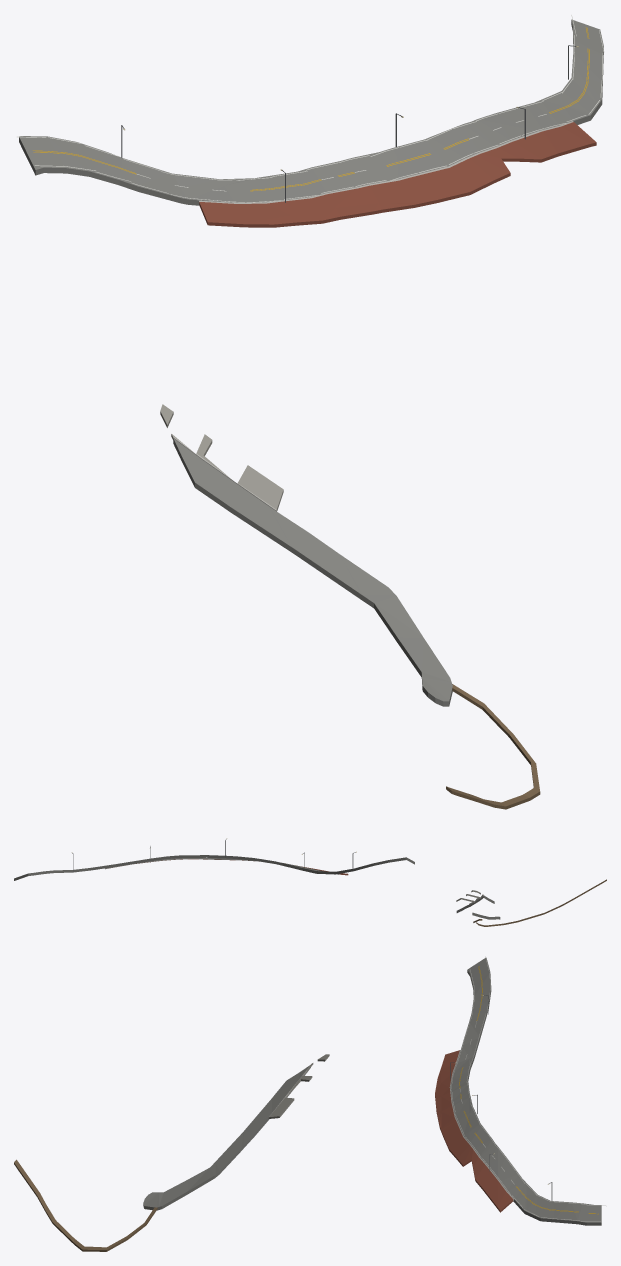
3 renders of one model, top to bottom at view 1: azimuth 30°, elevation 25°; view 2: azimuth 150°, elevation 25°; view 3: azimuth 270°, elevation 25°, orthographic. The views are drawn at different scales.
Bounding box in the file's own units: 159 × 97.21 × 210.
